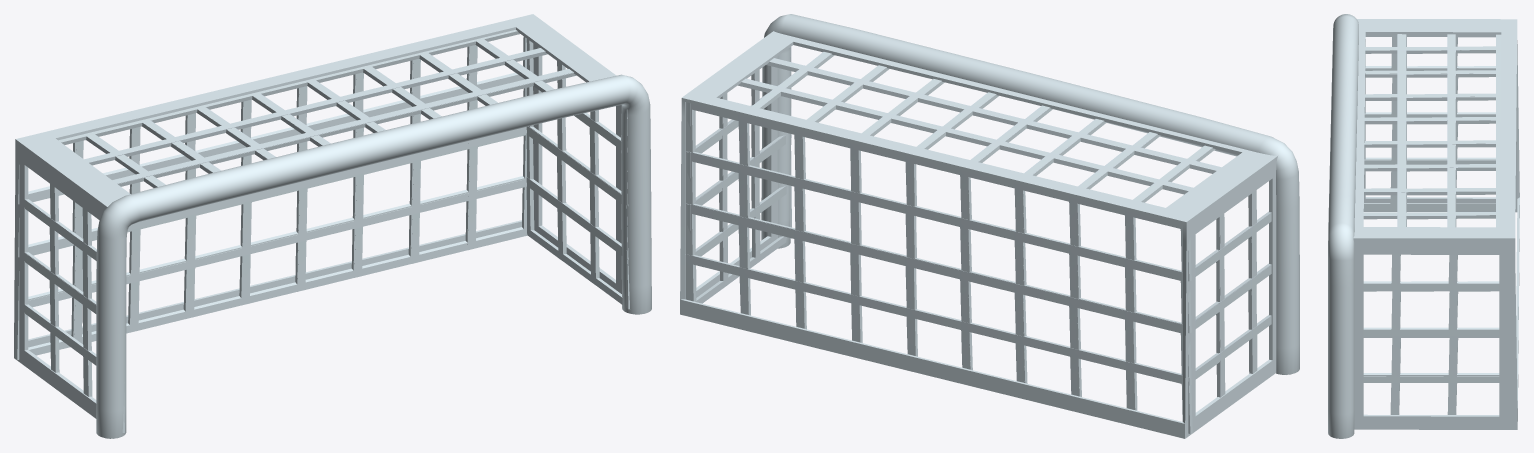
The model's file is goal 1.fbx.
3 renders of one model, left to right at view 1: azimuth 30°, elevation 25°; view 2: azimuth 150°, elevation 25°; view 3: azimuth 270°, elevation 25°, orthographic. The views are drawn at different scales.
Parts seen in each view (by area): view 1: goal8; view 2: goal8; view 3: goal8.
Boxes of the visible parts, <box> form: goal8: <box>14,14,651,438</box>; goal8: <box>680,14,1299,438</box>; goal8: <box>1328,14,1519,438</box>.
Bounding box in the file's own units: 4.72 × 1.97 × 1.64.
